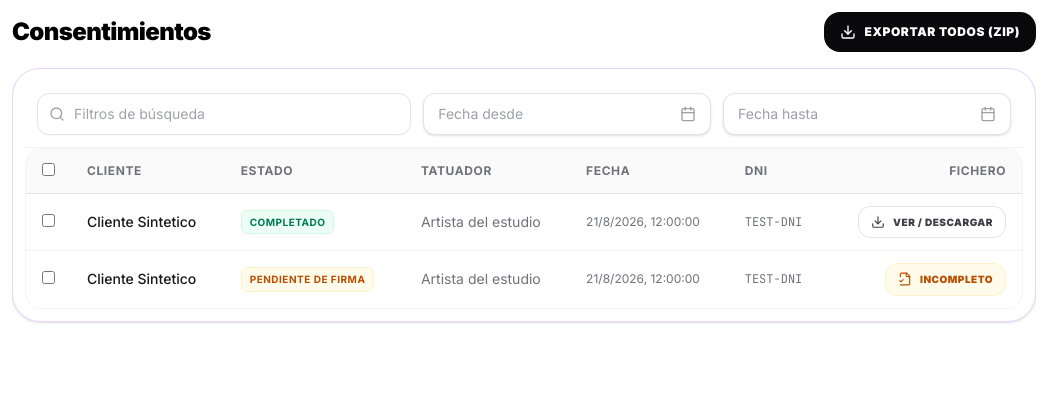
Test: ConsentsManager truthful ZIP export › reports actual partial counts and queries only authenticated final metadata
The image size is (1048, 398).
Click the button "Exportar todos (ZIP)" at x=930, y=32, box [824,12,1036,52]
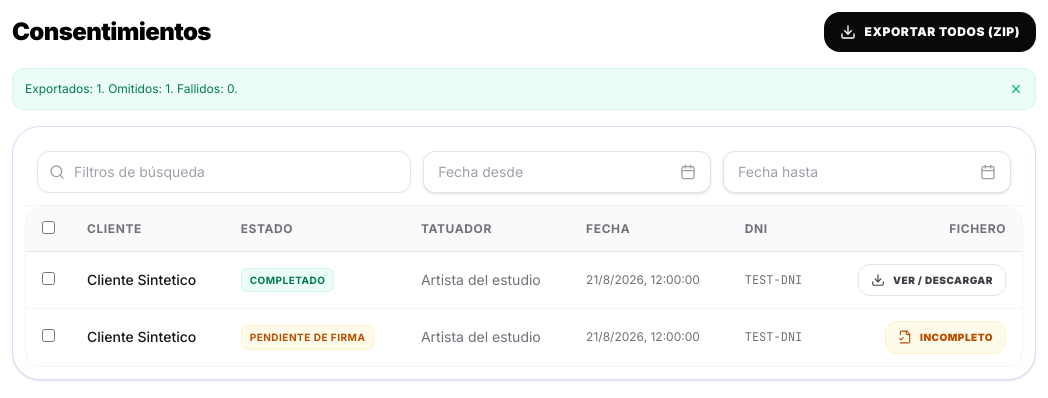
Check: the text "Exportados: 1. Omitidos: 1. Fallidos: 0." is shown, box [25,81,238,97]
